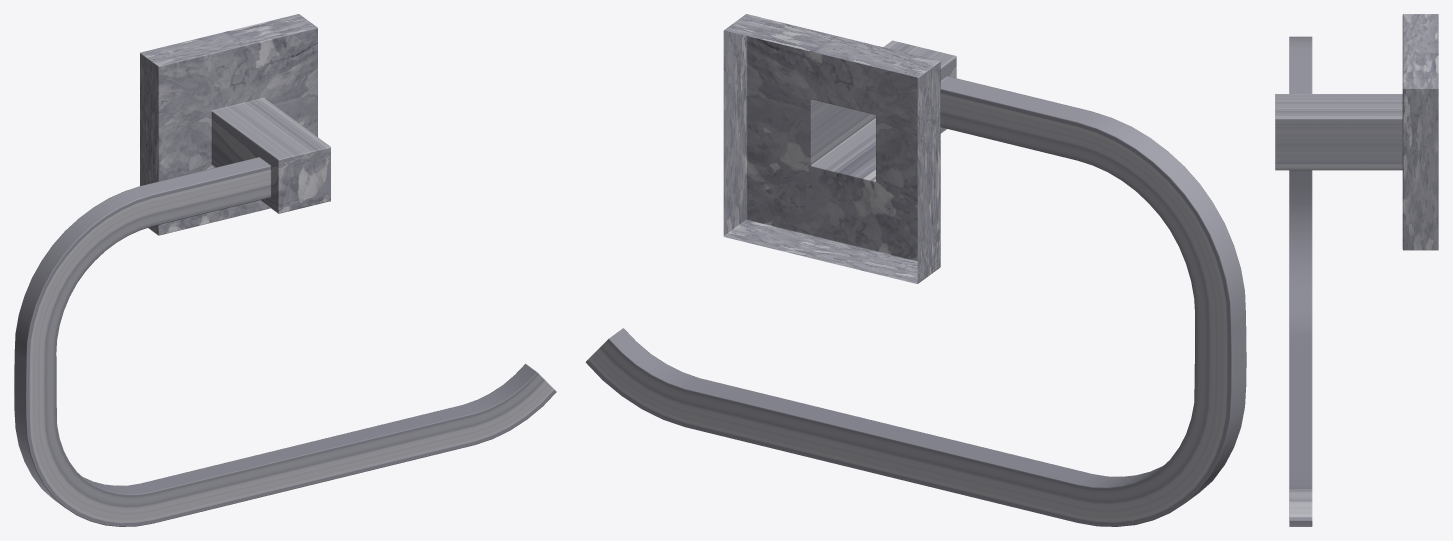
The model's file is paperholder.obj.
The picture shows the model from 3 angles, left to right: view 1: azimuth 30°, elevation 25°; view 2: azimuth 150°, elevation 25°; view 3: azimuth 270°, elevation 25°; orthographic projection. The views are drawn at different scales.
Visible parts, largest first — view 1: Toiler_Paper_Holder_Cube_002; view 2: Toiler_Paper_Holder_Cube_002; view 3: Toiler_Paper_Holder_Cube_002.
Boxes of the visible parts, box(x1,y1,x2,y2) form: Toiler_Paper_Holder_Cube_002: box(14, 14, 556, 526); Toiler_Paper_Holder_Cube_002: box(585, 14, 1246, 526); Toiler_Paper_Holder_Cube_002: box(1275, 14, 1438, 526).
Size of the model in its own units: 0.2926 by 0.2097 by 0.0815.
1 material, 1 textured.
